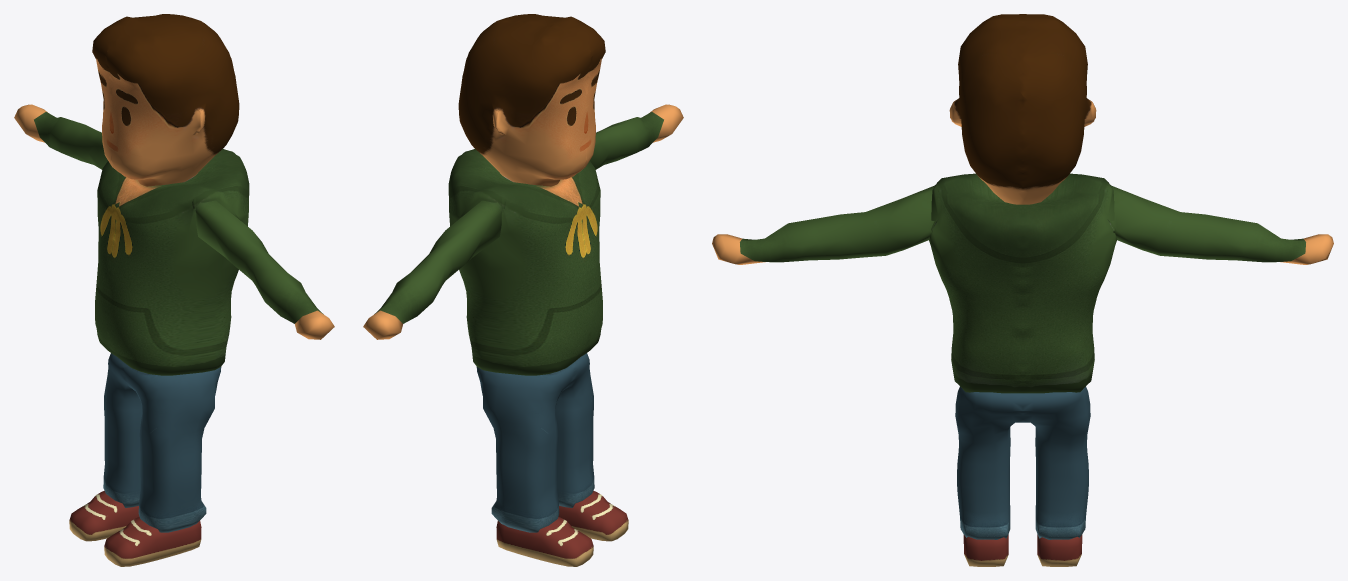
The picture shows the model from 3 angles, left to right: view 1: azimuth 30°, elevation 25°; view 2: azimuth 150°, elevation 25°; view 3: azimuth 270°, elevation 25°; orthographic projection. The views are drawn at different scales.
Parts seen in each view (by area): view 1: üst; view 2: üst; view 3: üst.
Part boxes in pixels (x1,y1,x2,y2): üst: (14, 14, 334, 566); üst: (363, 14, 683, 566); üst: (712, 14, 1333, 566).
Bounding box in the file's own units: 212 × 717 × 753.
5 materials, 5 textured.
